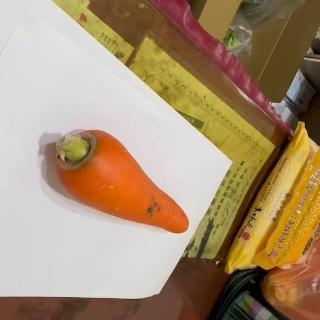carrot: (54, 128, 190, 234)
